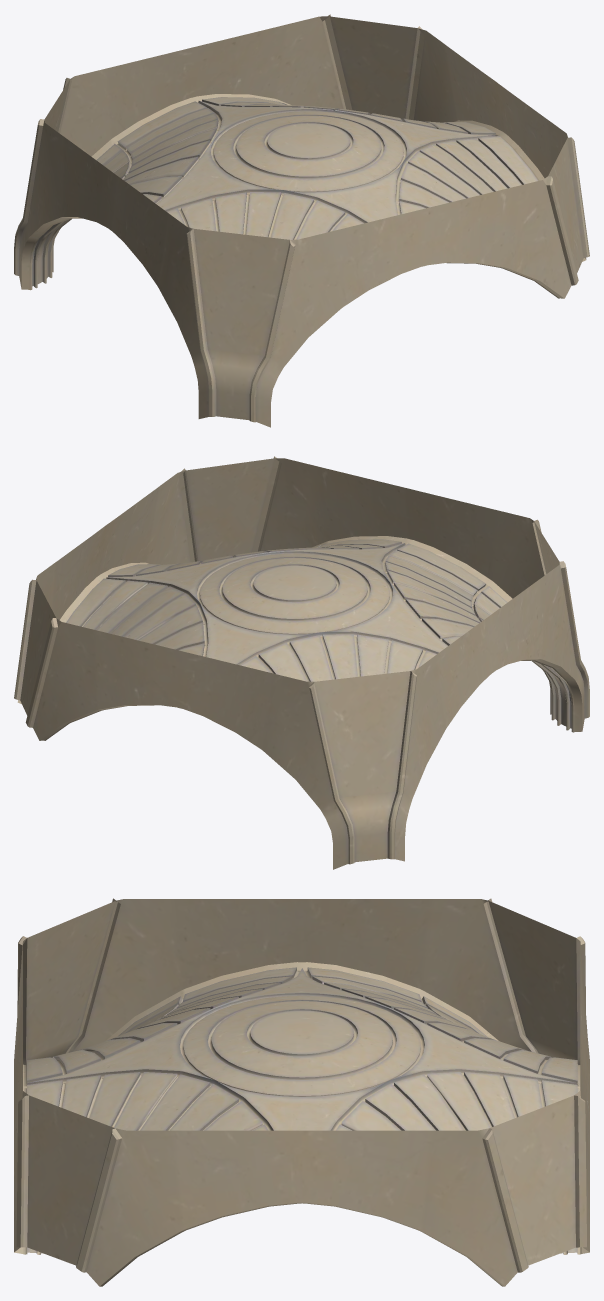
Rendered from patrick-carved-ceiling.glb.
The picture shows the model from 3 angles, top to bottom: view 1: azimuth 30°, elevation 25°; view 2: azimuth 150°, elevation 25°; view 3: azimuth 270°, elevation 25°; orthographic projection. The views are drawn at different scales.
Parts seen in each view (by area): view 1: polySurface25; view 2: polySurface25; view 3: polySurface25.
Part boxes in pixels (left/top/right/bottom): polySurface25: left=14, top=14, right=589, bottom=427; polySurface25: left=14, top=456, right=589, bottom=869; polySurface25: left=14, top=898, right=589, bottom=1286.
Bounding box in the file's own units: 0.1061 × 0.0463 × 0.1074.
1 material, 1 textured.
